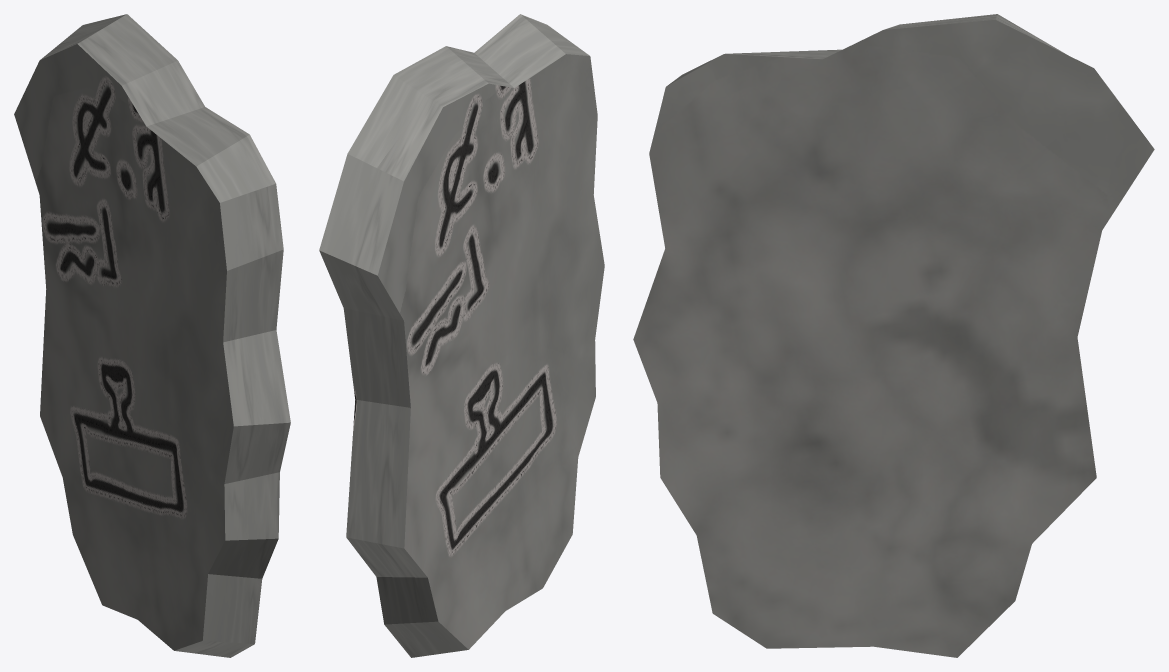
Rendered from StoneTablet2.fbx.
3 views of the same model, side by side, from view 1: azimuth 30°, elevation 25°; view 2: azimuth 150°, elevation 25°; view 3: azimuth 270°, elevation 25° (orthographic). The views are drawn at different scales.
Parts seen in each view (by area): view 1: Tablet2.002; view 2: Tablet2.002; view 3: Tablet2.002.
Boxes of the visible parts, bbox=[...] form: Tablet2.002: bbox=[14, 14, 290, 657]; Tablet2.002: bbox=[319, 14, 604, 657]; Tablet2.002: bbox=[633, 14, 1154, 657].
Size of the model in its own units: 16.86 by 190 by 141.
1 material, 1 textured.
